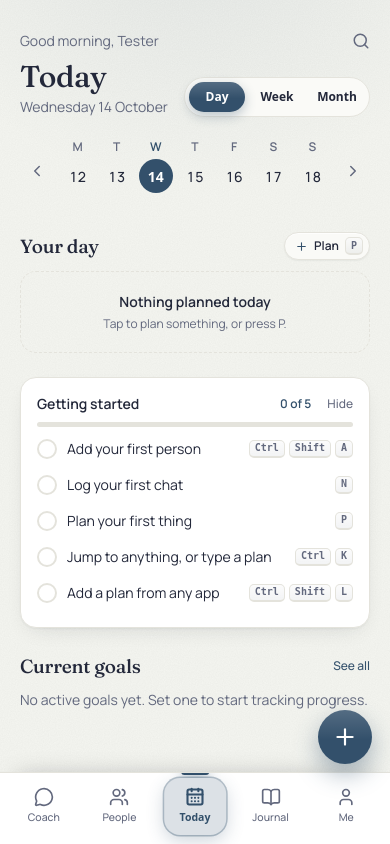
it: Me in sections › F finds a setting in any section, saying which; clearing it goes back
Click the button "Me" at (346, 807), box [308,781,384,832]
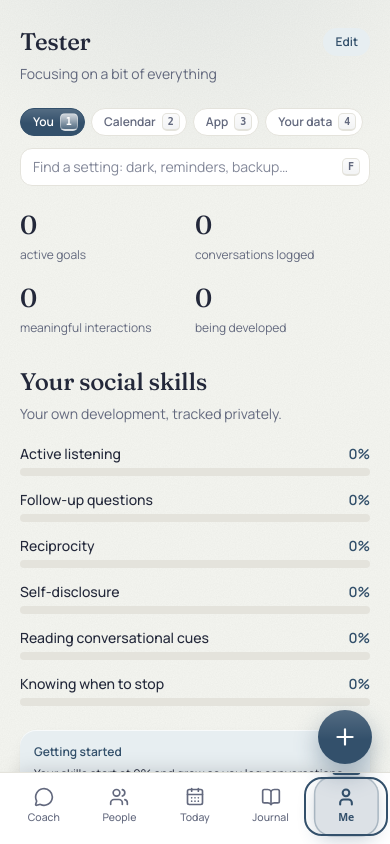
Type keys "f"
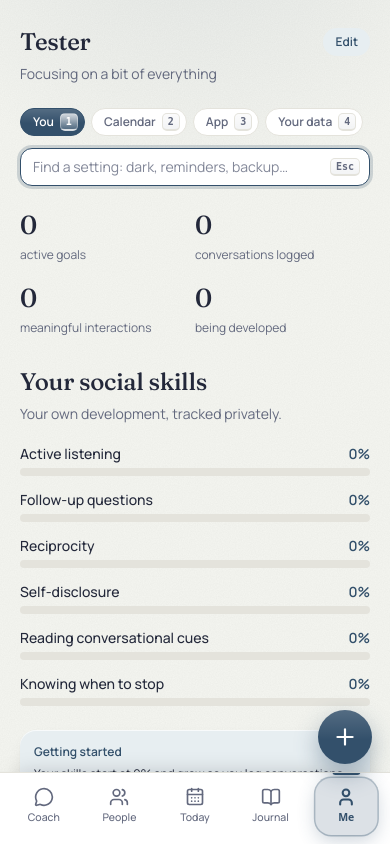
Type keys "dark"
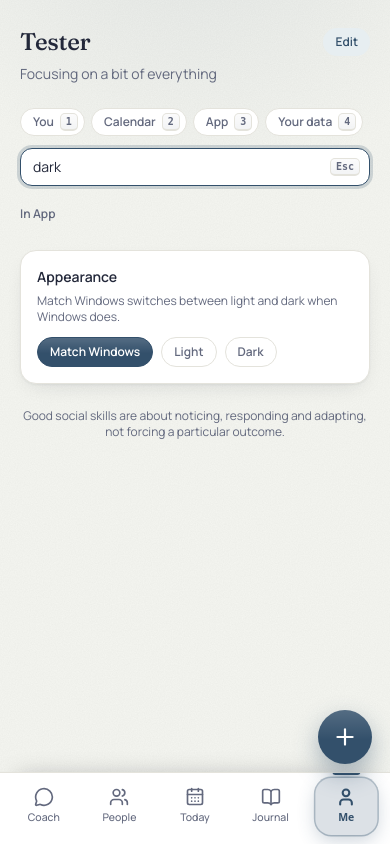
Check: the button "Dark" is shown, box [224,337,276,367]
Clear the field named "Find a setting" at (195, 167), box [20,148,370,186]
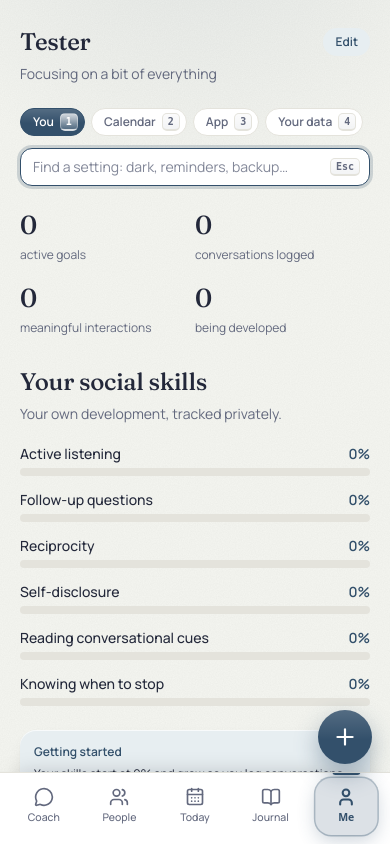
Type keys "pineapple"
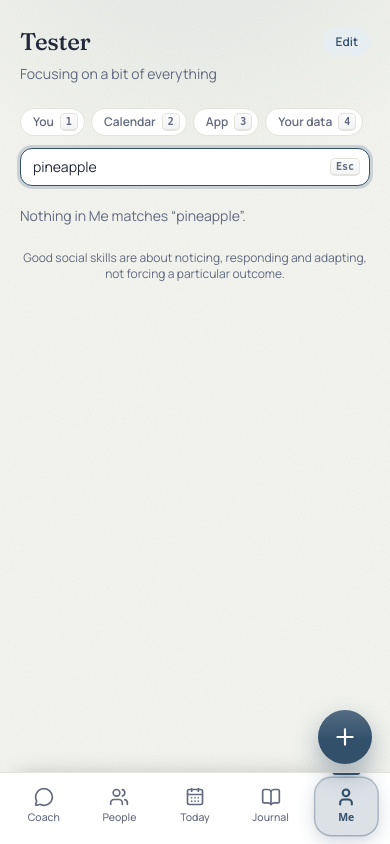
Check: the text "Nothing in Me matches “pineapple”." is shown, box [20,206,246,225]
Clear the field named "Find a setting" at (195, 167), box [20,148,370,186]
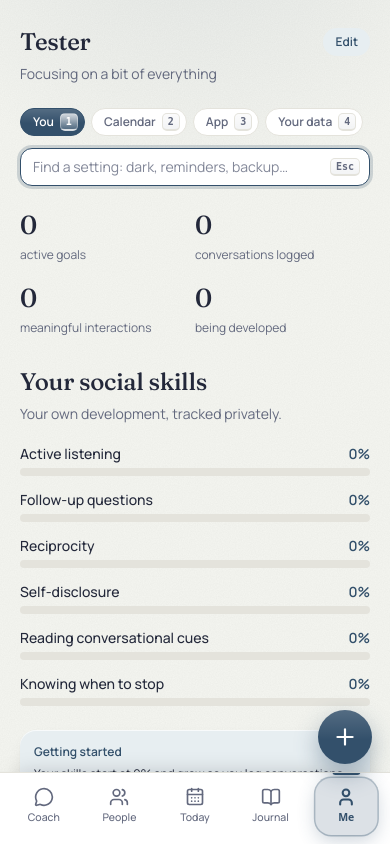
Check: the text "Your social skills" is shown, box [20,367,207,396]
